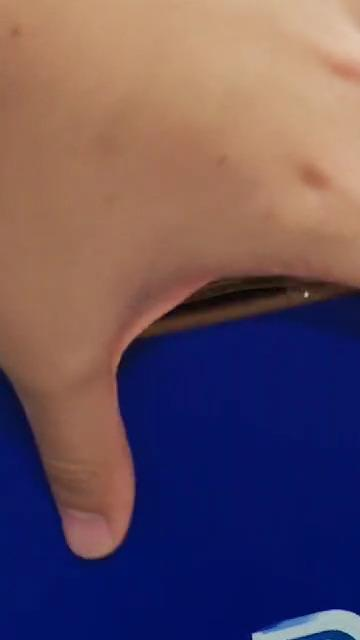B_R1: (114, 553, 360, 640)
